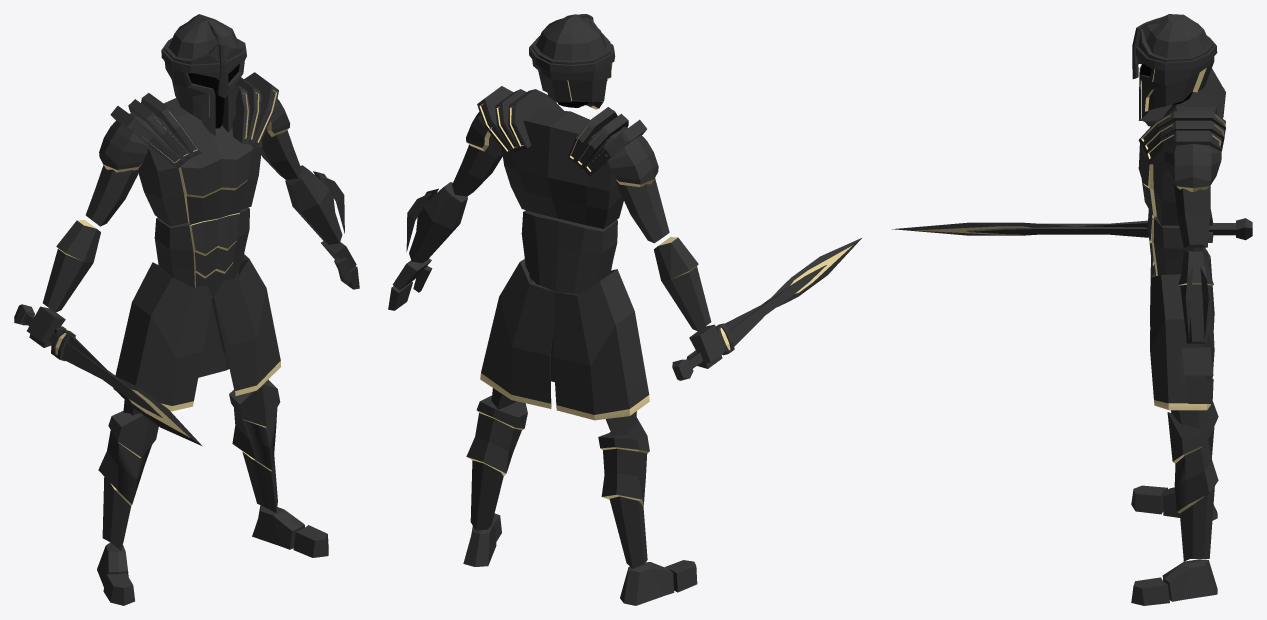
The model's file is DarkTemplar.fbx.
The picture shows the model from 3 angles, left to right: view 1: azimuth 30°, elevation 25°; view 2: azimuth 150°, elevation 25°; view 3: azimuth 270°, elevation 25°; orthographic projection. The views are drawn at different scales.
Parts seen in each view (by area): view 1: pasted__pCube34, polySurface52, pasted__pCube33, pPlane4, polySurface53, polySurface79, polySurface68, polySurface66, pCube1, polySurface60, polySurface54, pasted__pasted__polySurface6 (+9 smaller); view 2: pasted__pCube34, polySurface52, pasted__pCube33, polySurface53, pPlane4, polySurface79, polySurface68, polySurface66, pCube1, polySurface60, polySurface54, pasted__pasted__polySurface6 (+6 smaller); view 3: pPlane4, polySurface66, pasted__pCube33, polySurface79, pCube1, polySurface52, pasted__pasted__polySurface5, polySurface54, polySurface55, polySurface53, polySurface49, polySurface48 (+5 smaller).
Boxes of the visible parts, bbox=[...] form: pasted__pCube34: bbox=[113, 262, 212, 411]; polySurface52: bbox=[138, 98, 262, 226]; pasted__pCube33: bbox=[198, 254, 280, 395]; pPlane4: bbox=[161, 14, 246, 135]; polySurface53: bbox=[154, 207, 249, 295]; polySurface79: bbox=[110, 72, 278, 169]; polySurface68: bbox=[98, 410, 158, 550]; polySurface66: bbox=[229, 379, 280, 512]; pCube1: bbox=[14, 304, 202, 446]; polySurface60: bbox=[42, 220, 100, 312]; polySurface54: bbox=[285, 165, 342, 244]; pasted__pasted__polySurface6: bbox=[99, 112, 153, 172]; pasted__pCube34: bbox=[553, 269, 649, 420]; polySurface52: bbox=[501, 108, 623, 228]; pasted__pCube33: bbox=[480, 259, 555, 408]; polySurface53: bbox=[521, 210, 617, 294]; pPlane4: bbox=[529, 14, 615, 109]; polySurface79: bbox=[477, 86, 646, 176]; polySurface68: bbox=[598, 417, 649, 568]; polySurface66: bbox=[466, 395, 527, 530]; pCube1: bbox=[672, 238, 861, 380]; polySurface60: bbox=[654, 237, 711, 331]; polySurface54: bbox=[409, 182, 467, 263]; pasted__pasted__polySurface6: bbox=[604, 126, 658, 186]; pPlane4: bbox=[1132, 14, 1217, 119]; polySurface66: bbox=[1167, 412, 1218, 561]; pasted__pCube33: bbox=[1150, 273, 1214, 410]; polySurface79: bbox=[1138, 68, 1225, 164]; pCube1: bbox=[892, 218, 1252, 240]; polySurface52: bbox=[1138, 95, 1217, 225]; pasted__pasted__polySurface5: bbox=[1164, 143, 1221, 191]; polySurface54: bbox=[1178, 250, 1213, 343]; polySurface55: bbox=[1174, 183, 1210, 247]; polySurface53: bbox=[1147, 209, 1203, 275]; polySurface49: bbox=[1162, 559, 1217, 601]; polySurface48: bbox=[1131, 577, 1169, 605].
Size of the model in its own units: 4.15 by 6.77 by 4.11.
